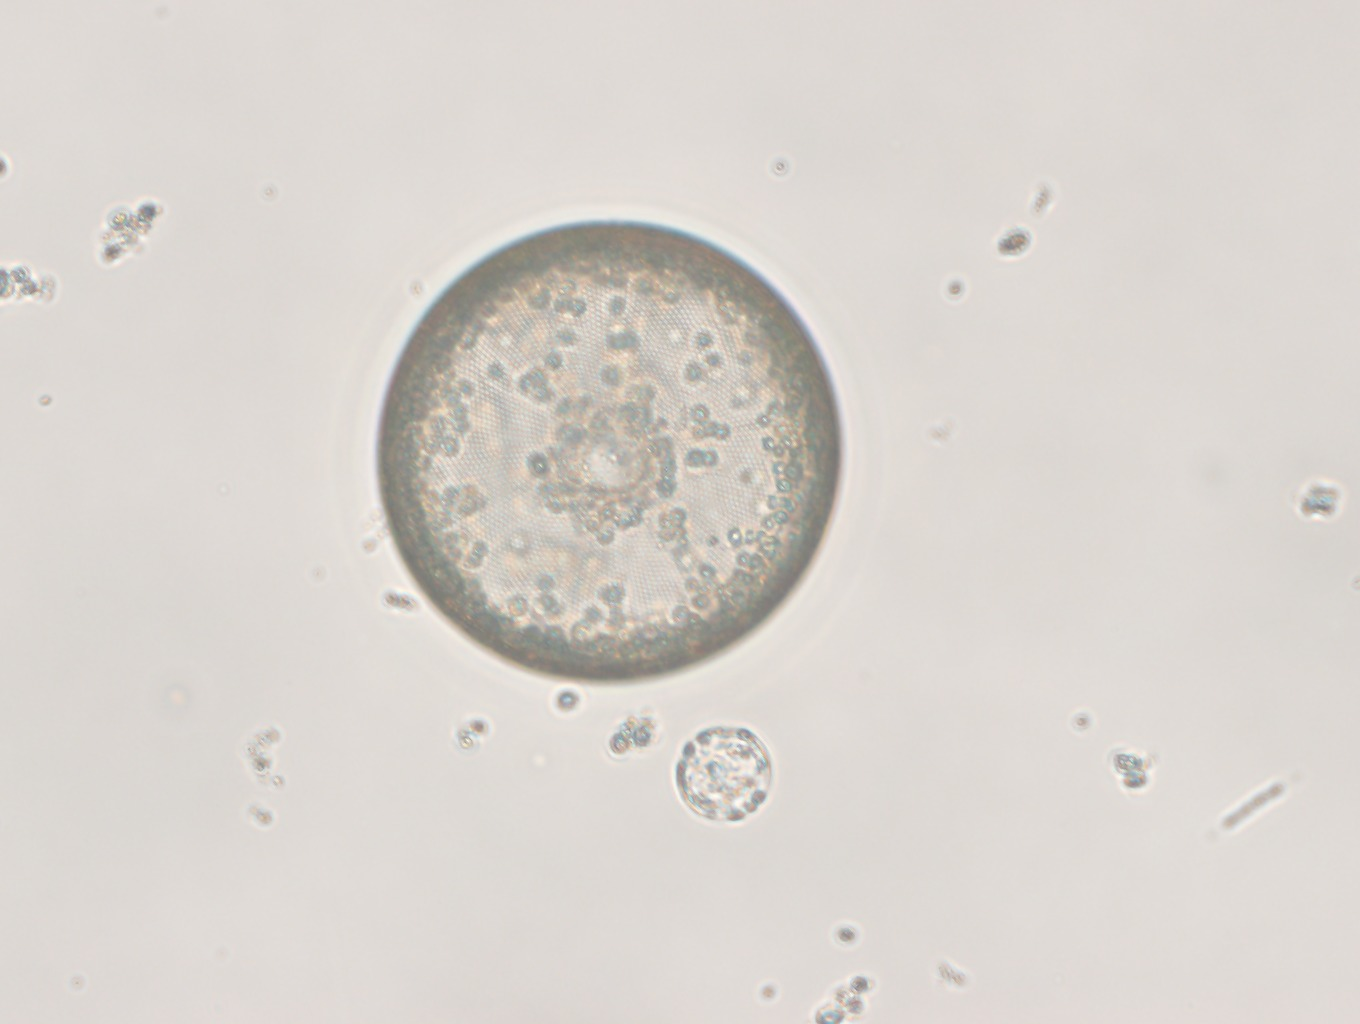coscinodiscus: (373, 214, 850, 685)
